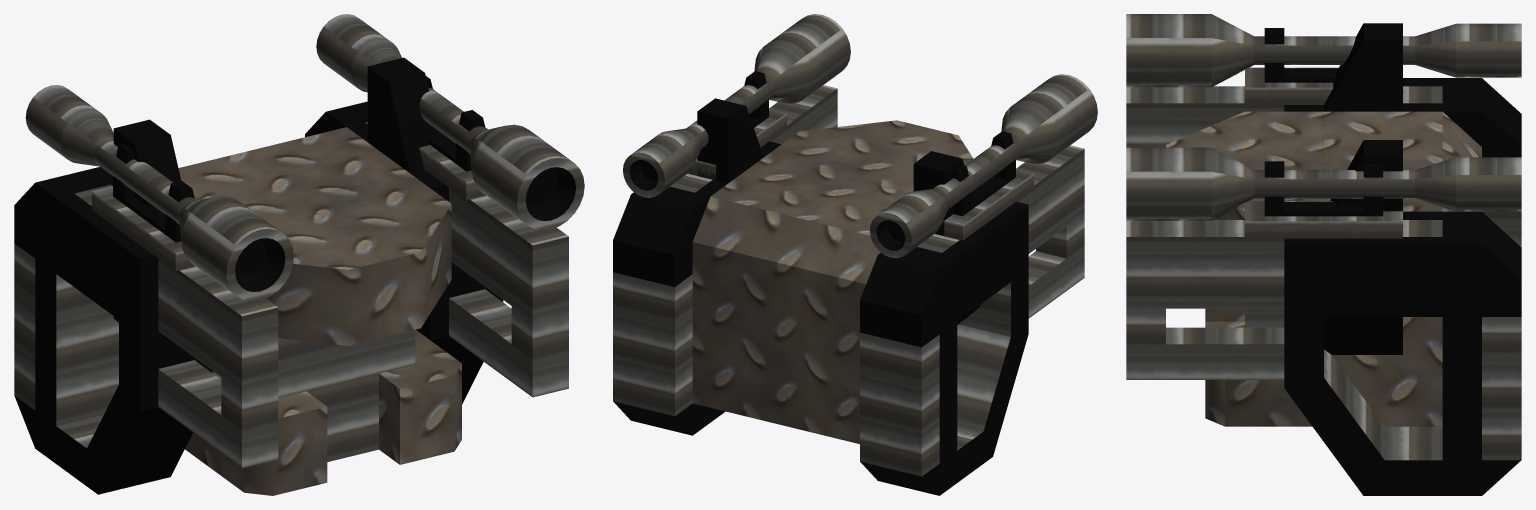
The model's file is enemy1.obj.
3 renders of one model, left to right at view 1: azimuth 30°, elevation 25°; view 2: azimuth 150°, elevation 25°; view 3: azimuth 270°, elevation 25°, orthographic. The views are drawn at different scales.
Visible parts, largest first — view 1: mergedBlocks; view 2: mergedBlocks; view 3: mergedBlocks.
Part boxes in pixels (box(x1,y1,x2,y2)): mergedBlocks: box(14, 14, 584, 495); mergedBlocks: box(613, 14, 1097, 495); mergedBlocks: box(1126, 14, 1521, 495).
Bounding box in the file's own units: 0.5 × 0.4582 × 0.5.
4 materials, 2 textured.
